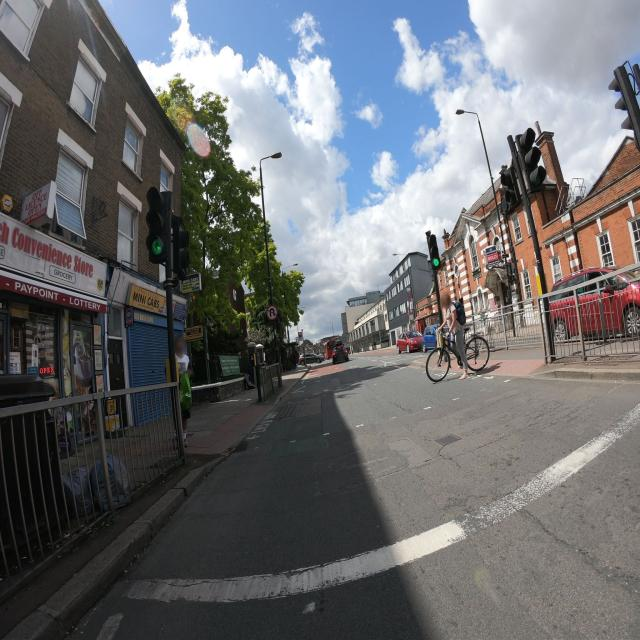bike: (426, 321, 488, 380)
car: (540, 265, 640, 343), (396, 330, 424, 354), (332, 342, 351, 363), (301, 353, 323, 365)
